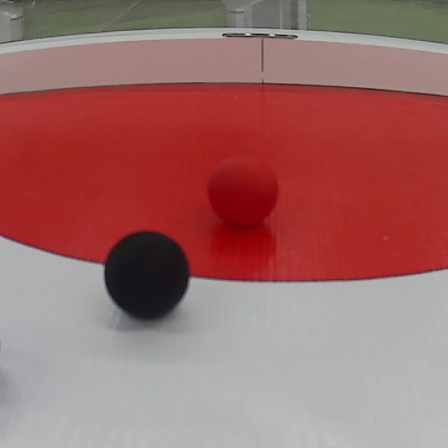black: (93, 226, 196, 322)
red: (211, 151, 280, 229)
red_base: (1, 79, 448, 281)
